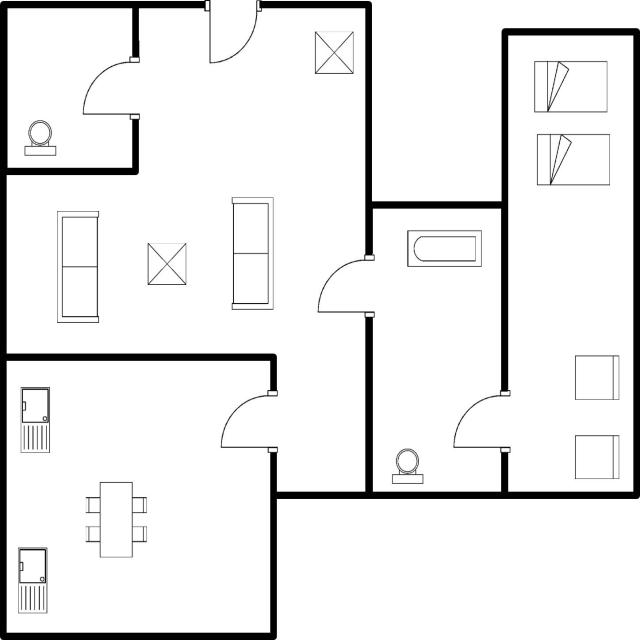bed: (527, 55, 611, 118), (532, 130, 614, 192)
coffee_table: (311, 26, 359, 78), (144, 240, 189, 292)
dining_table: (80, 475, 150, 564)
large_sink: (386, 443, 434, 487), (18, 117, 62, 162)
large_sofa: (51, 206, 102, 327), (226, 192, 276, 313)
sink: (15, 383, 57, 458), (15, 543, 53, 617)
small_sofa: (568, 428, 624, 486), (568, 351, 622, 406)
tub: (403, 226, 484, 271)
